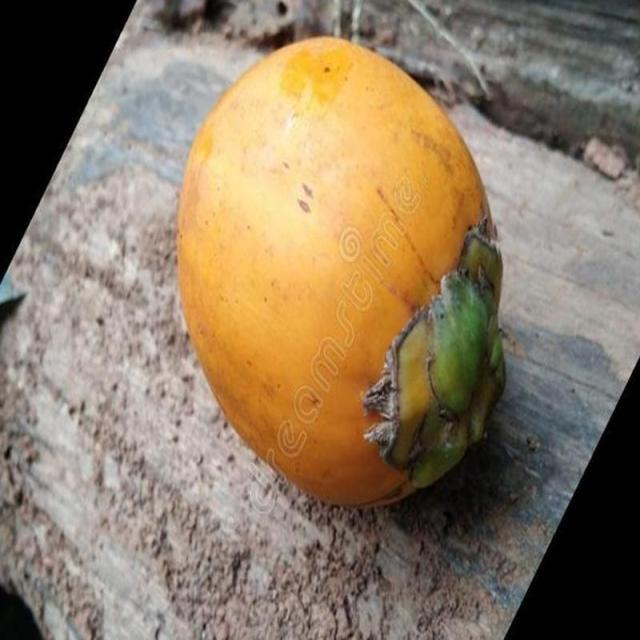good: (177, 36, 507, 511)
